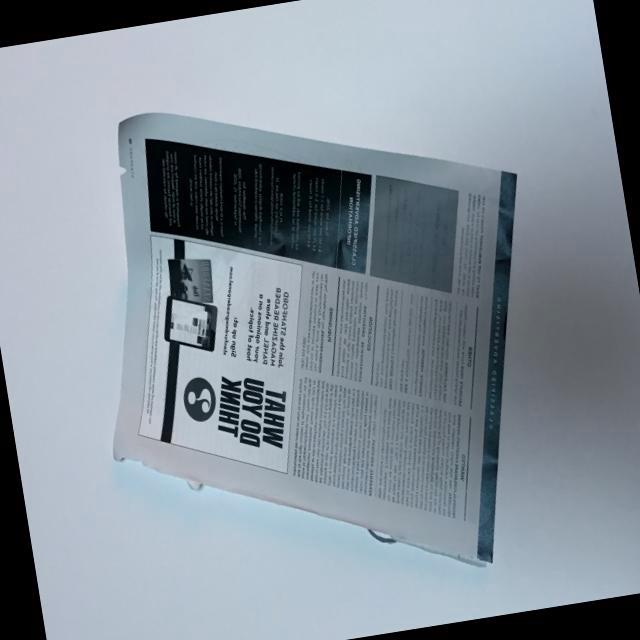cardboard: (56, 40, 578, 622)
